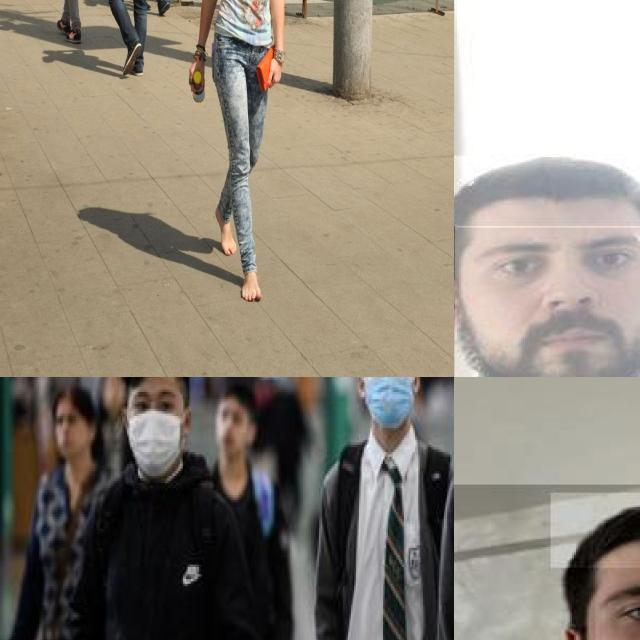Barefoots: (215, 205, 237, 256), (242, 270, 262, 301)
No_Ear-Protection: (454, 267, 483, 330), (549, 619, 609, 640)
No_Glasses: (460, 232, 640, 287), (591, 564, 640, 640)
face_mask: (125, 385, 183, 478), (362, 377, 413, 430)
face_nomask: (455, 226, 640, 377), (213, 404, 247, 454), (54, 404, 86, 457)
head_nohelmet: (454, 155, 640, 227), (550, 492, 640, 567)
person: (88, 377, 261, 640), (285, 377, 454, 640), (454, 484, 640, 640)
